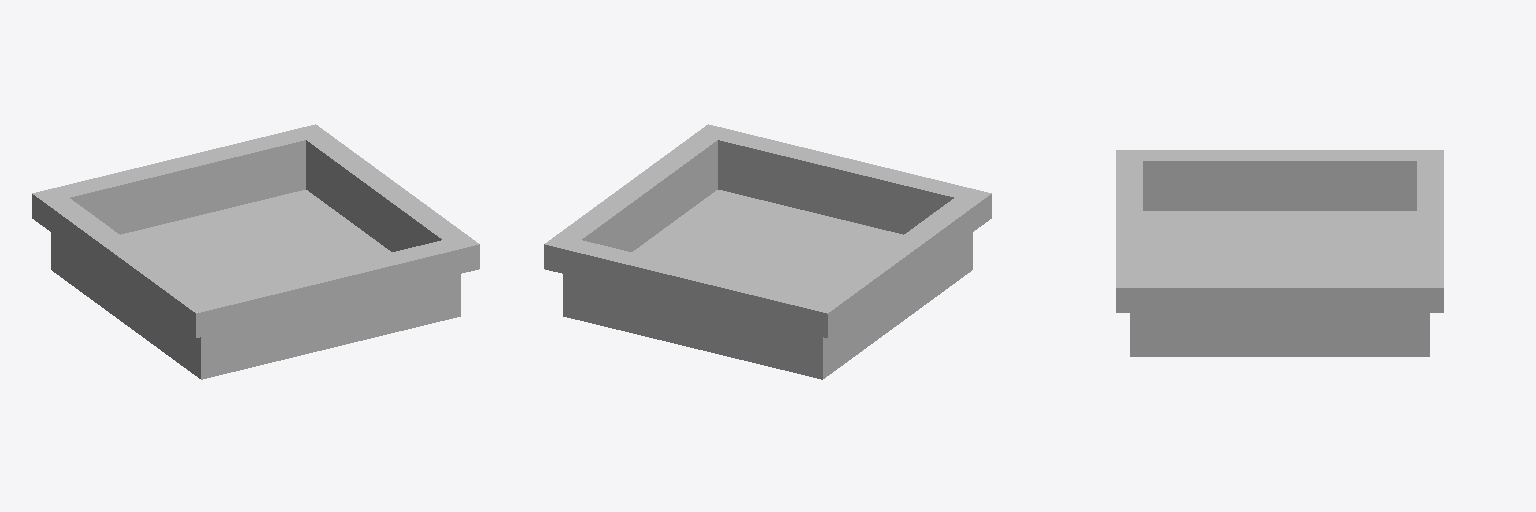
File: Sandbox.obj
3 renders of one model, left to right at view 1: azimuth 30°, elevation 25°; view 2: azimuth 150°, elevation 25°; view 3: azimuth 270°, elevation 25°, orthographic.
Parts seen in each view (by area): view 1: Cube; view 2: Cube; view 3: Cube.
Part boxes in pixels (bbox=[...]): Cube: bbox=[32, 124, 479, 379]; Cube: bbox=[544, 124, 991, 379]; Cube: bbox=[1116, 150, 1443, 356].
Bounding box in the file's own units: 0.5996 × 0.1496 × 0.6004.